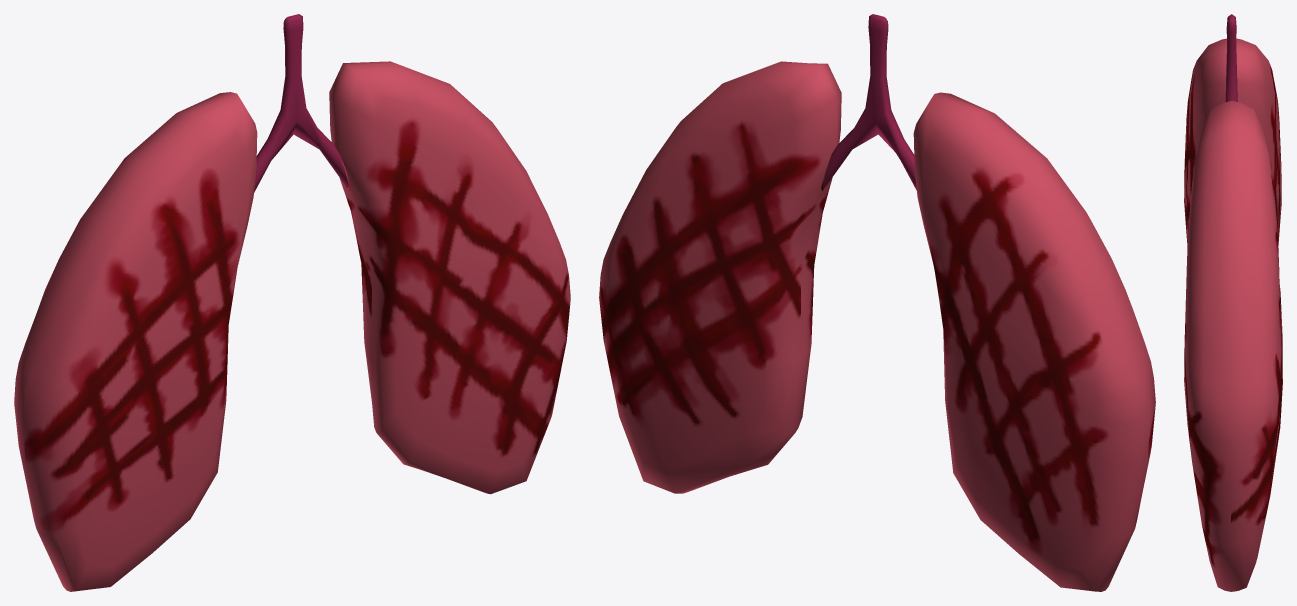
Rendered from ING_Lungs.fbx.
The picture shows the model from 3 angles, left to right: view 1: azimuth 30°, elevation 25°; view 2: azimuth 150°, elevation 25°; view 3: azimuth 270°, elevation 25°; orthographic projection. The views are drawn at different scales.
Visible parts, largest first — view 1: Lung1, Lung, LungStem; view 2: Lung1, Lung, LungStem; view 3: Lung, Lung1, LungStem.
Boxes of the visible parts, <box> form: Lung1: <box>14,92,257,591</box>; Lung: <box>329,61,570,494</box>; LungStem: <box>254,14,348,192</box>; Lung1: <box>913,92,1155,591</box>; Lung: <box>599,61,841,493</box>; LungStem: <box>823,14,916,190</box>; Lung: <box>1184,101,1282,591</box>; Lung1: <box>1184,38,1281,245</box>; LungStem: <box>1225,14,1237,102</box>.
Bounding box in the file's own units: 9.74 × 8.98 × 1.68.
